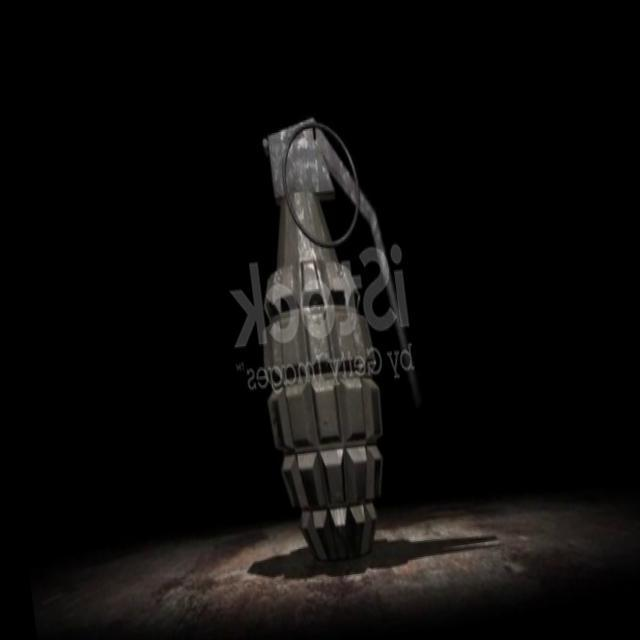grenade: (235, 101, 438, 576)
